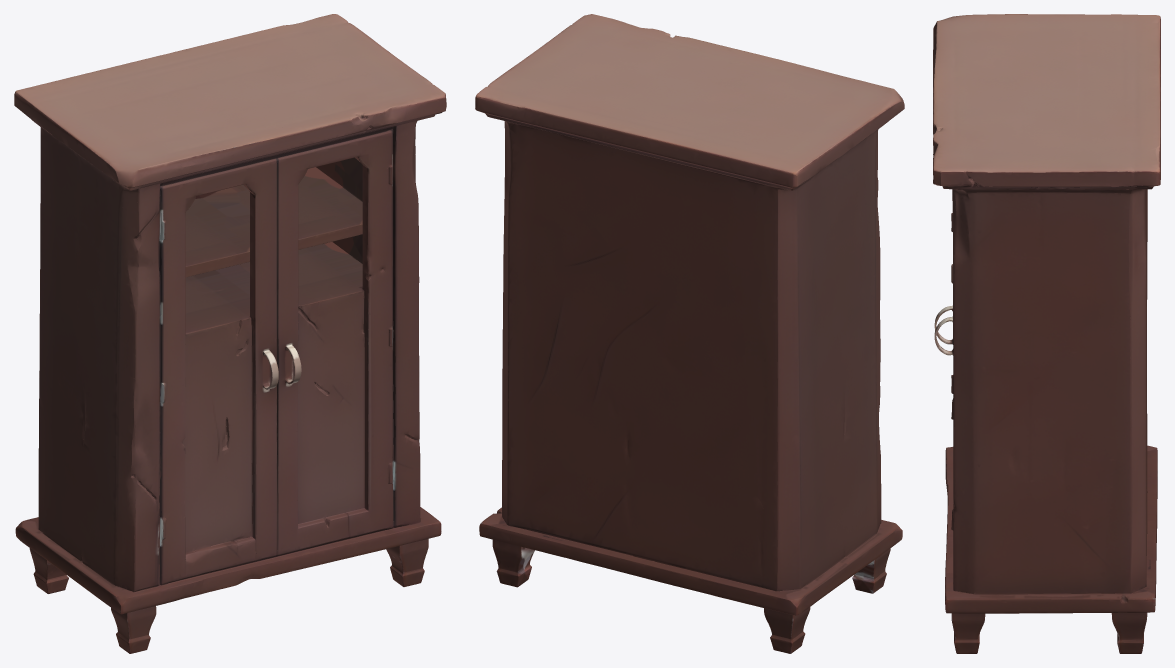
File: cabinet.glb
3 renders of one model, left to right at view 1: azimuth 30°, elevation 25°; view 2: azimuth 150°, elevation 25°; view 3: azimuth 270°, elevation 25°, orthographic.
Parts seen in each view (by area): view 1: model; view 2: model; view 3: model.
Part boxes in pixels (x1,y1,x2,y2): model: (14, 14, 446, 653); model: (475, 14, 904, 653); model: (933, 14, 1160, 653).
Size of the model in its own units: 1.31 by 1.9 by 0.7985.
1 material, 1 textured.
